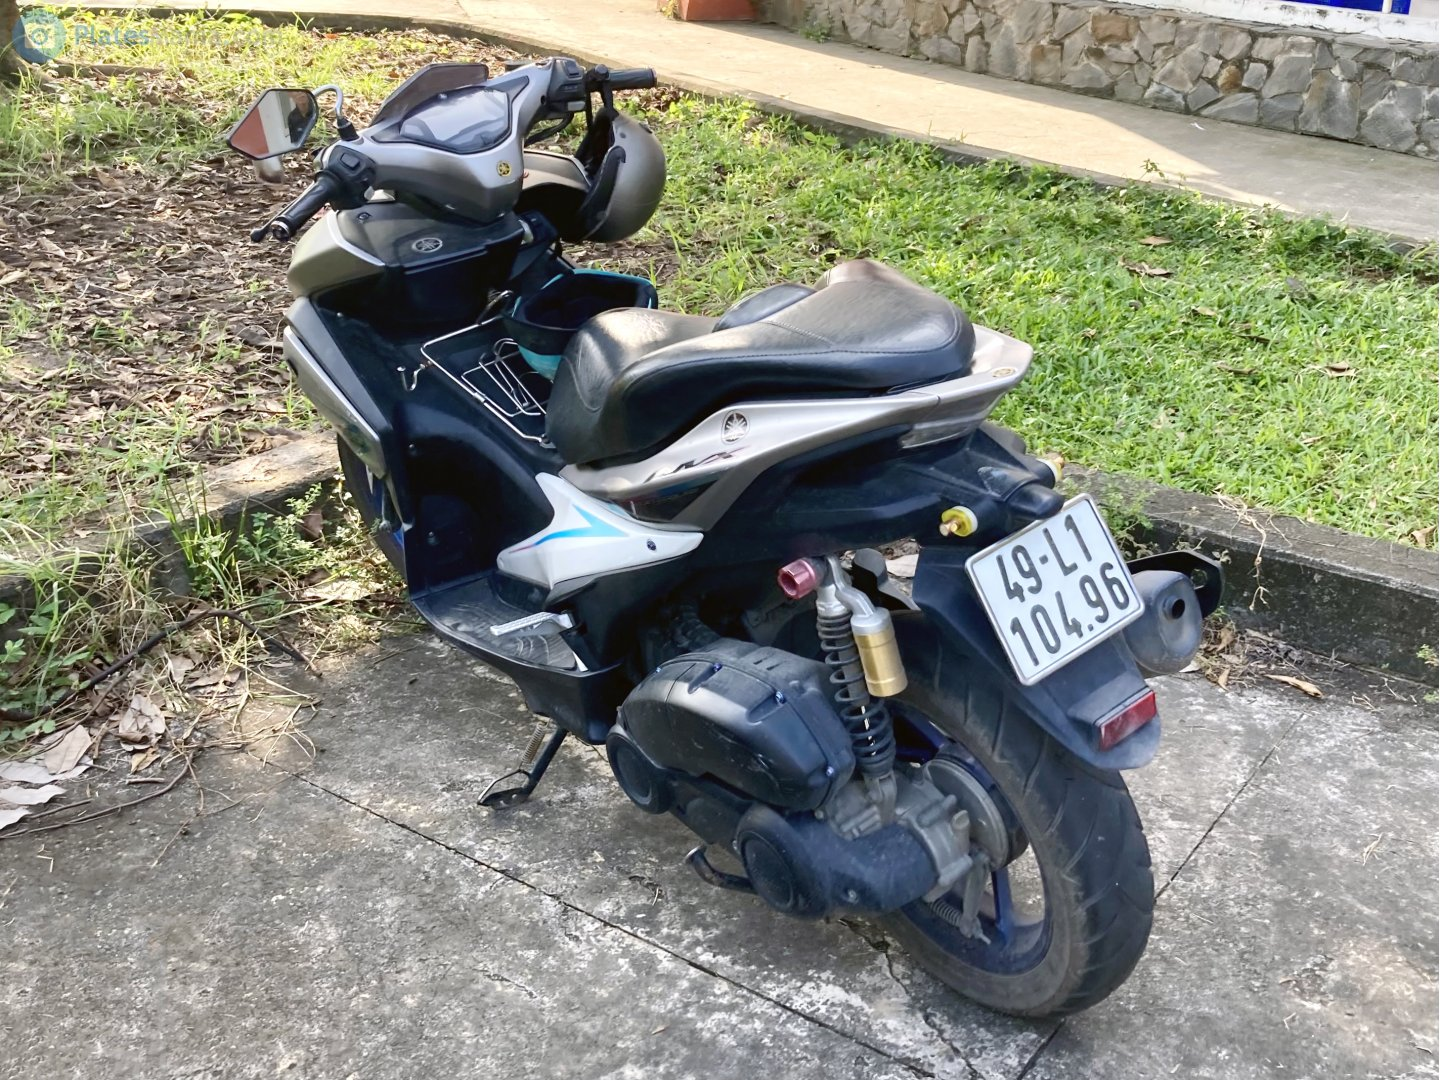bien_so: (967, 496, 1143, 684)
